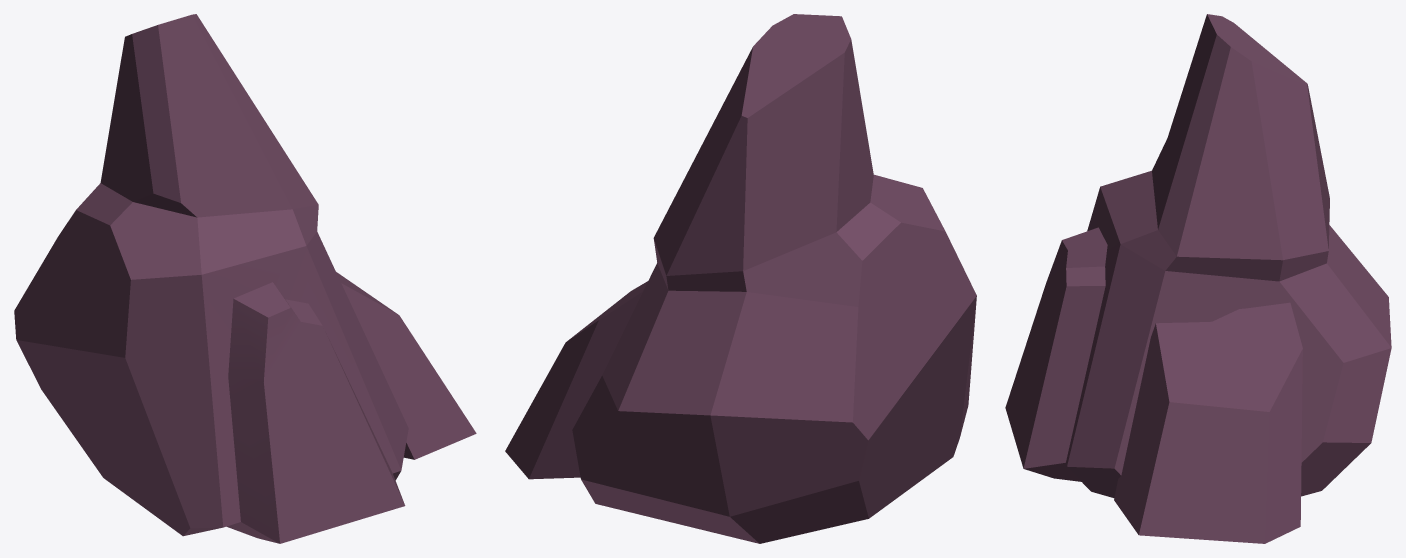
Rendered from mdl_islandRocks03_2.fbx.
3 renders of one model, left to right at view 1: azimuth 30°, elevation 25°; view 2: azimuth 150°, elevation 25°; view 3: azimuth 270°, elevation 25°, orthographic. The views are drawn at different scales.
Visible parts, largest first — view 1: mdl_islandRocks03_3; view 2: mdl_islandRocks03_3; view 3: mdl_islandRocks03_3.
Boxes of the visible parts, x1,y1,x2,y2 form: mdl_islandRocks03_3: (14, 14, 476, 543); mdl_islandRocks03_3: (505, 14, 976, 543); mdl_islandRocks03_3: (1005, 14, 1391, 543).
Size of the model in its own units: 132 by 157 by 135.
Materials: 1 (1 with a texture image).
